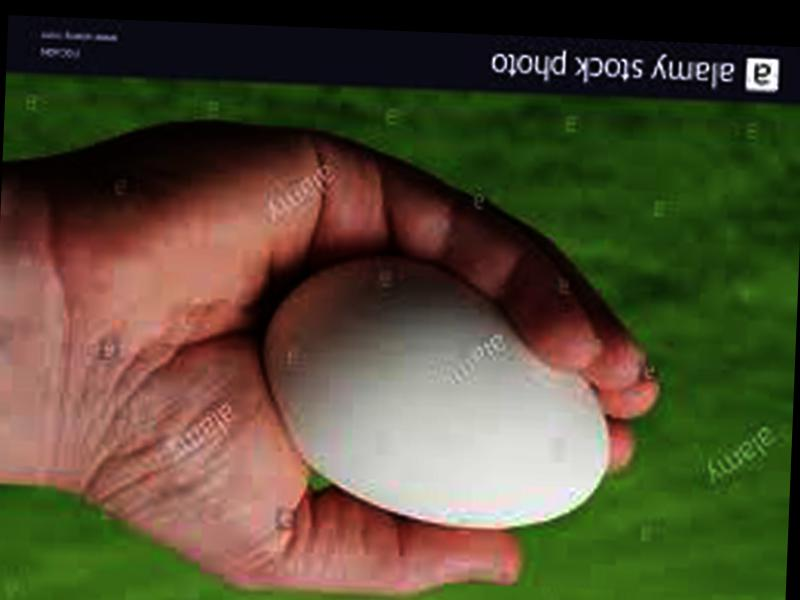Eggs: (250, 250, 615, 535)
